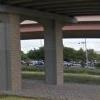Bridge: (2, 2, 95, 58)
